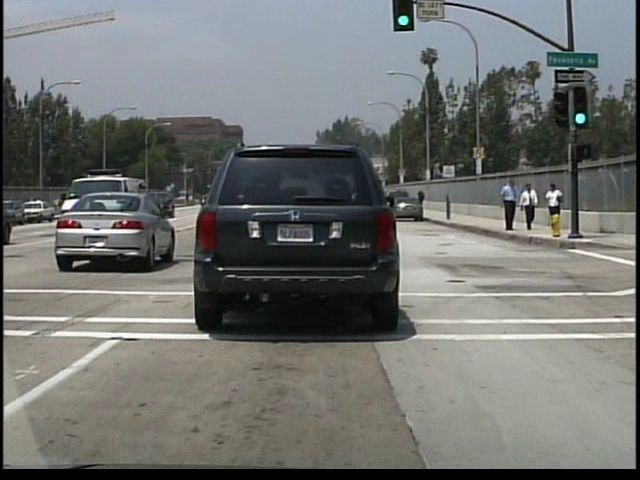person: (499, 178, 519, 235), (523, 182, 543, 232), (545, 181, 566, 215), (416, 187, 428, 213)
